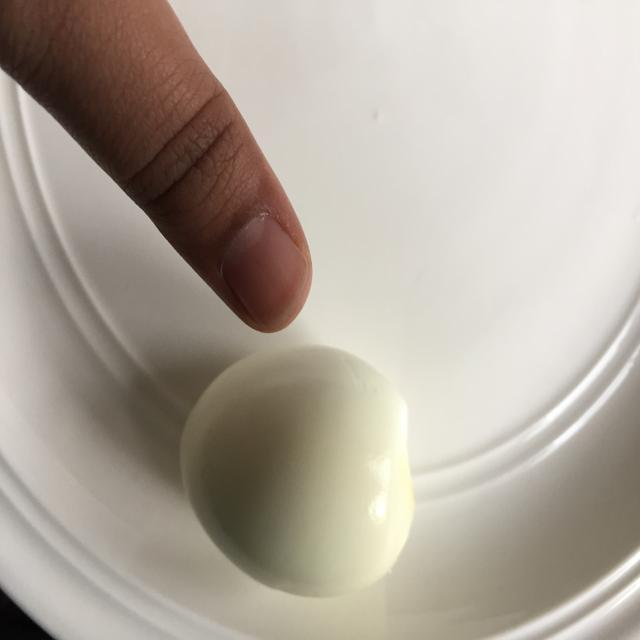Egg: (169, 338, 440, 614)
Finger: (65, 45, 322, 333)
